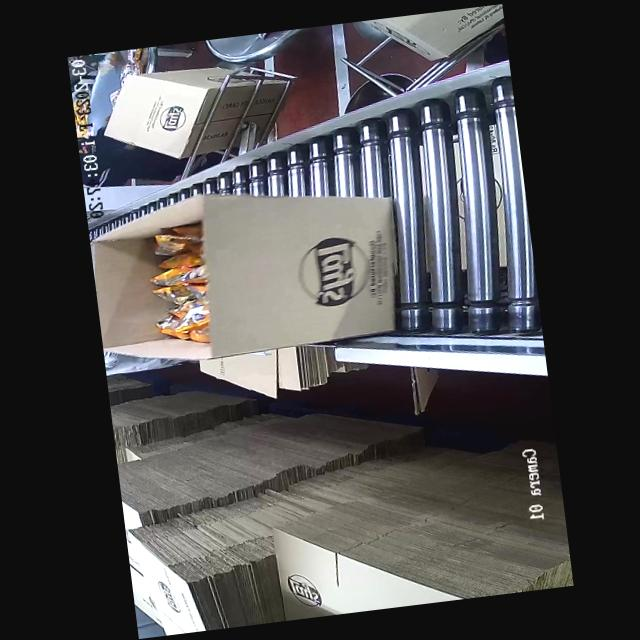cheese: (136, 212, 220, 346)
